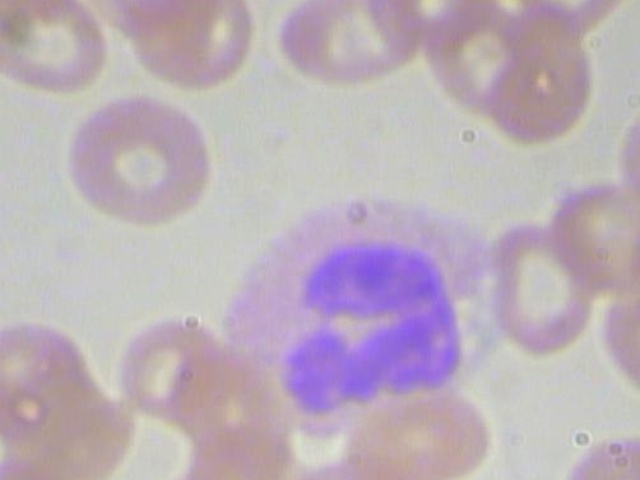RBC: (49, 94, 215, 232), (482, 216, 598, 355), (111, 0, 262, 97), (273, 0, 430, 84), (0, 0, 118, 95), (507, 0, 640, 38), (616, 96, 640, 214)
WBC: (215, 181, 516, 440)
